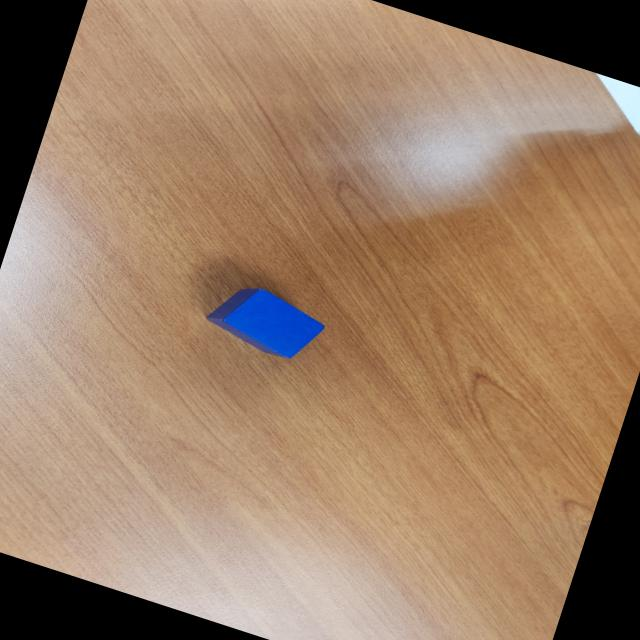blue: (202, 275, 332, 369)
